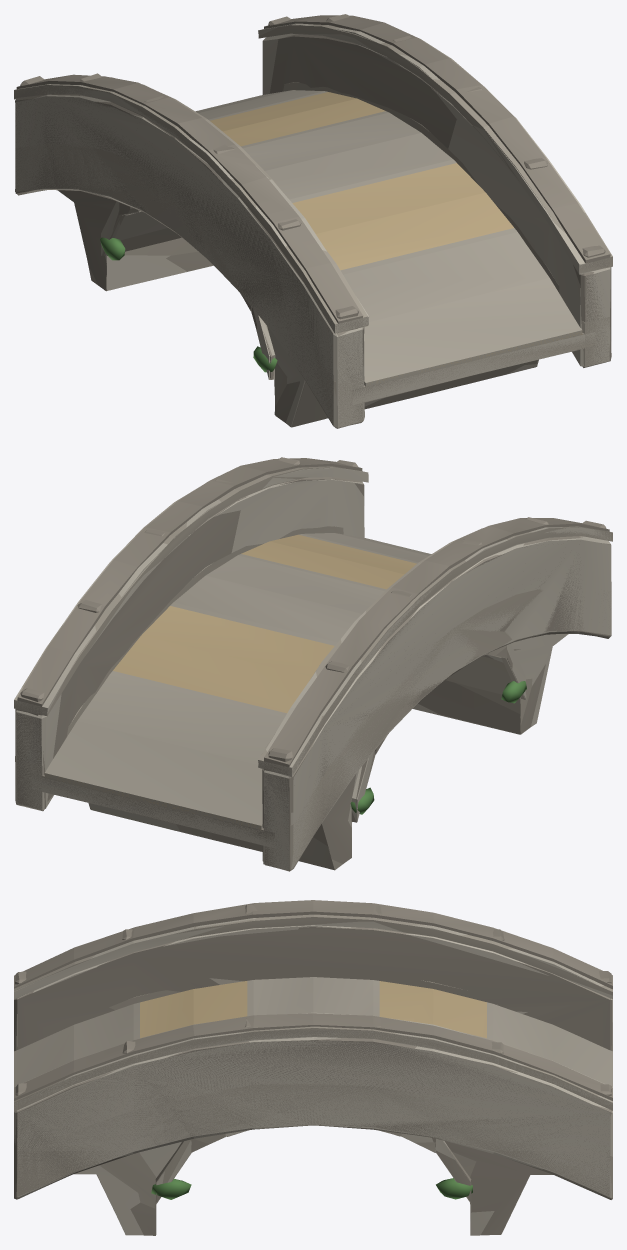
File: bridge.stone.glb
3 views of the same model, one above another, from view 1: azimuth 30°, elevation 25°; view 2: azimuth 150°, elevation 25°; view 3: azimuth 270°, elevation 25° (orthographic). The views are drawn at different scales.
Visible parts, largest first — view 1: bridge.stone.v0.mesh, bridge.stone.v2.mesh, bridge.stone.v1.mesh; view 2: bridge.stone.v0.mesh, bridge.stone.v2.mesh, bridge.stone.v1.mesh; view 3: bridge.stone.v0.mesh, bridge.stone.v2.mesh, bridge.stone.v1.mesh.
Part boxes in pixels (box(x1,y1,x2,y2)): bridge.stone.v0.mesh: box(14, 24, 612, 428); bridge.stone.v2.mesh: box(14, 23, 611, 428); bridge.stone.v1.mesh: box(15, 14, 611, 427); bridge.stone.v0.mesh: box(14, 466, 612, 871); bridge.stone.v2.mesh: box(14, 467, 610, 871); bridge.stone.v1.mesh: box(15, 457, 611, 870); bridge.stone.v0.mesh: box(14, 914, 612, 1235); bridge.stone.v2.mesh: box(14, 918, 612, 1235); bridge.stone.v1.mesh: box(14, 900, 612, 1229).
Size of the model in its own units: 2 by 1.61 by 4.
